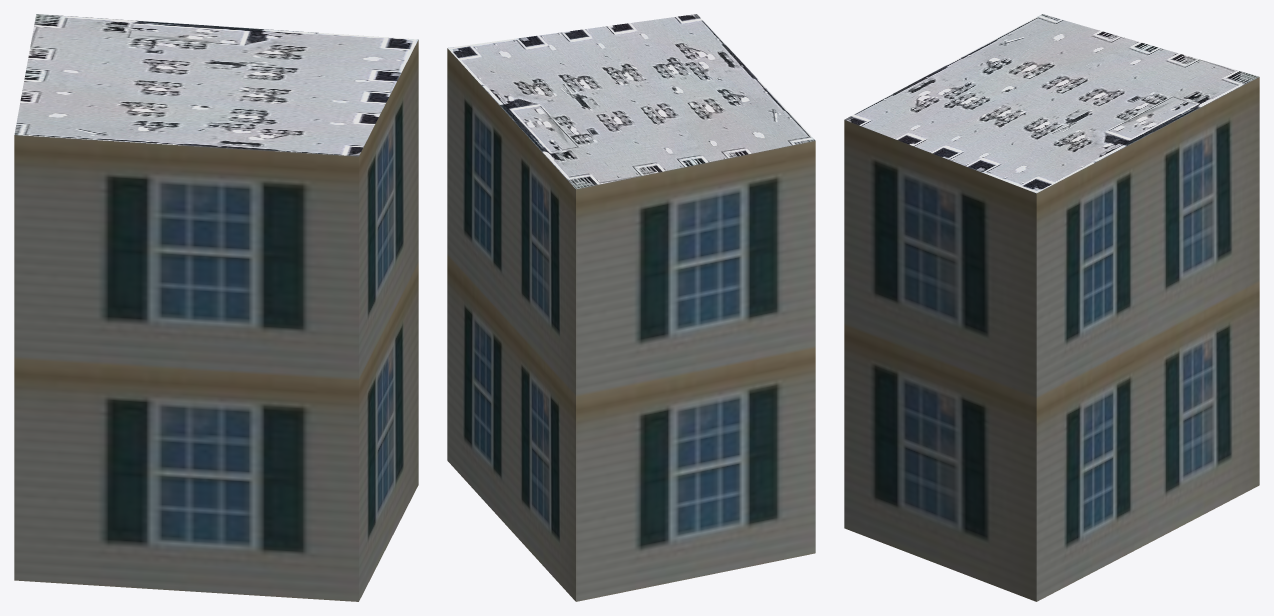
Rendered from ResTex__1096.fbx.
The picture shows the model from 3 angles, left to right: view 1: azimuth 30°, elevation 25°; view 2: azimuth 150°, elevation 25°; view 3: azimuth 270°, elevation 25°; orthographic projection. The views are drawn at different scales.
Parts seen in each view (by area): view 1: CityEngineMaterial_7_m, CityEngineMaterial_4_m; view 2: CityEngineMaterial_7_m, CityEngineMaterial_4_m; view 3: CityEngineMaterial_7_m, CityEngineMaterial_4_m.
Part boxes in pixels (box(x1,y1,x2,y2)): CityEngineMaterial_7_m: box(14, 40, 418, 601); CityEngineMaterial_4_m: box(14, 14, 418, 156); CityEngineMaterial_7_m: box(447, 48, 815, 601); CityEngineMaterial_4_m: box(447, 14, 815, 189); CityEngineMaterial_7_m: box(844, 77, 1259, 601); CityEngineMaterial_4_m: box(844, 14, 1259, 193).
Bounding box in the file's own units: 5.65 × 6 × 5.53.
2 materials, 2 textured.
